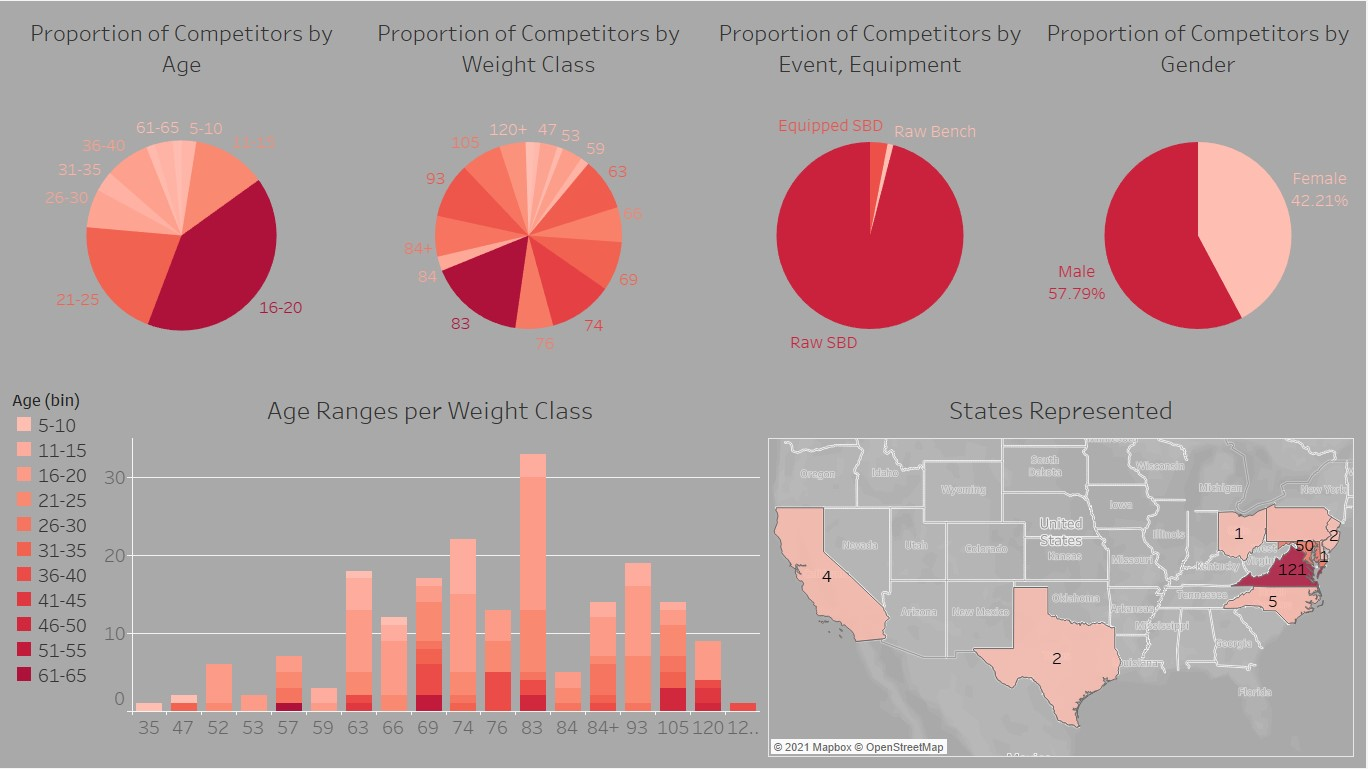

Layout of this report page (visuals, bound fields, positions):
{"tool":"tableau","page":{"name":"Competitor Profile","canvas":[1366,768],"ordinal":1},"visuals":[{"type":"worksheet","title":"Proportion Age","mark":"Pie","box":[8,8,347,376]},{"type":"worksheet","title":"Proportion WC","mark":"Pie","box":[355,8,347,376]},{"type":"worksheet","title":"Event Equipment","mark":"Pie","box":[702,8,336,376]},{"type":"worksheet","title":"Gender","mark":"Pie","box":[1038,8,320,376]},{"type":"legend","title":"Weight Classes - Age","param":"[federated.0a6m34t0qxb0os11sy90s032ogwb].[none:Age (bin):ok]","box":[8,384,88,376]},{"type":"worksheet","title":"Weight Classes - Age","mark":"Automatic","rows":["Sheet1_C822F5D8706A4D22A1864BB091D664CF"],"cols":["Weight Class (kg)"],"box":[96,384,668,376]},{"type":"worksheet","title":"States","mark":"Automatic","box":[764,384,594,376]}]}

Visuals, with their boxes in screenshot pixels (x1, y1, x2, y2), scaled from the page's 1366x768 canvas onto the 1368x769 screenshot:
"Proportion Age" worksheet (Pie marks): Rect(8, 8, 356, 384)
"Proportion WC" worksheet (Pie marks): Rect(356, 8, 703, 384)
"Event Equipment" worksheet (Pie marks): Rect(703, 8, 1040, 384)
"Gender" worksheet (Pie marks): Rect(1040, 8, 1360, 384)
"Weight Classes - Age" legend: Rect(8, 384, 96, 761)
"Weight Classes - Age" worksheet: Rect(96, 384, 765, 761)
"States" worksheet: Rect(765, 384, 1360, 761)
